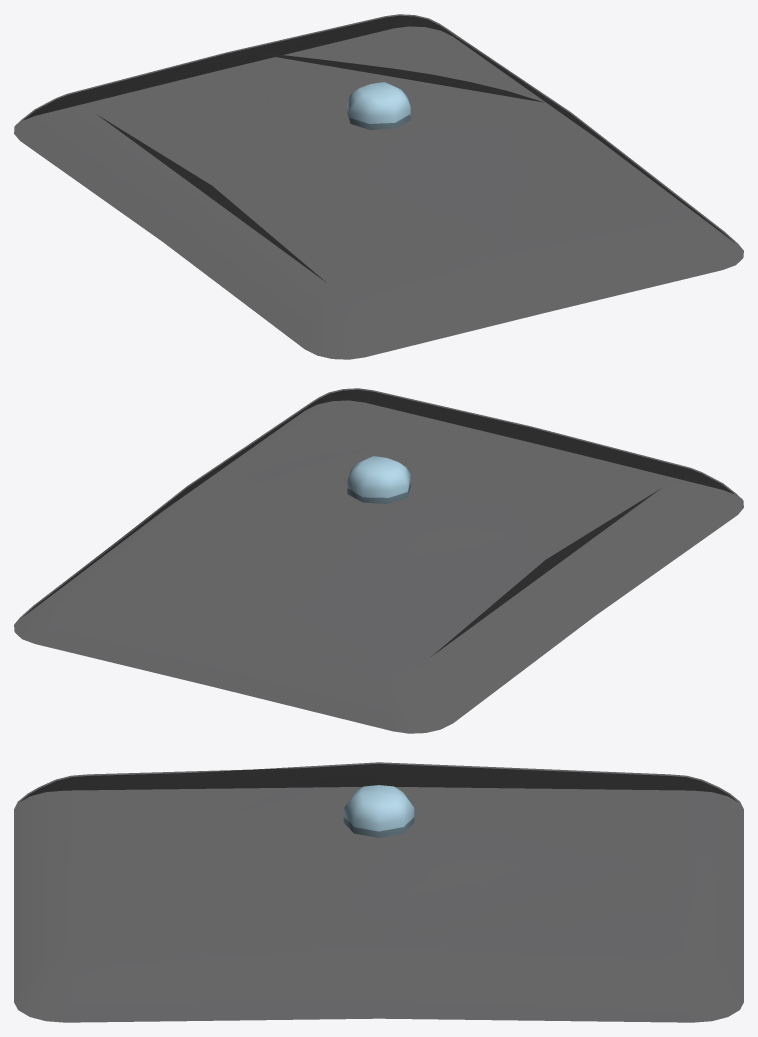
The model's file is Glass_icecream.fbx.
3 renders of one model, top to bottom at view 1: azimuth 30°, elevation 25°; view 2: azimuth 150°, elevation 25°; view 3: azimuth 270°, elevation 25°, orthographic. The views are drawn at different scales.
Parts seen in each view (by area): view 1: Cube.058; view 2: Cube.058; view 3: Cube.058.
Boxes of the visible parts, left/top/right/bottom form: Cube.058: left=14, top=14, right=743, bottom=359; Cube.058: left=14, top=388, right=743, bottom=733; Cube.058: left=14, top=762, right=743, bottom=1022.
Size of the model in its own units: 180 by 41.24 by 238.
